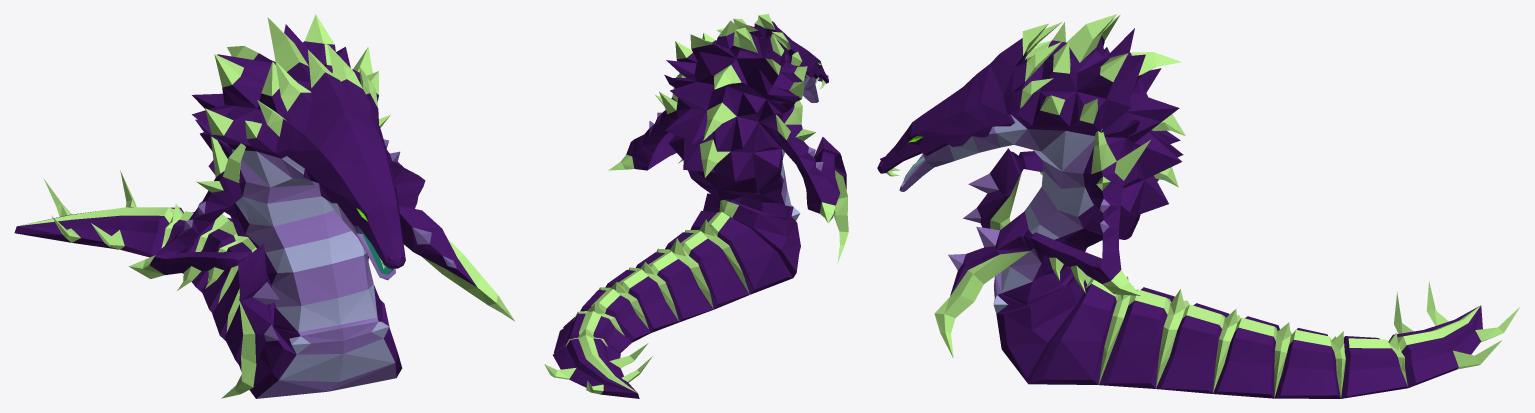
3 views of the same model, side by side, from view 1: azimuth 30°, elevation 25°; view 2: azimuth 150°, elevation 25°; view 3: azimuth 270°, elevation 25° (orthographic). The views are drawn at different scales.
Visible parts, largest first — view 1: Alien_Serpent; view 2: Alien_Serpent; view 3: Alien_Serpent.
Part boxes in pixels (x1,y1,x2,y2): Alien_Serpent: (14,14,514,398); Alien_Serpent: (544,14,848,398); Alien_Serpent: (877,14,1520,398).
Size of the model in its own units: 189 by 215 by 374.
1 material, 1 textured.
